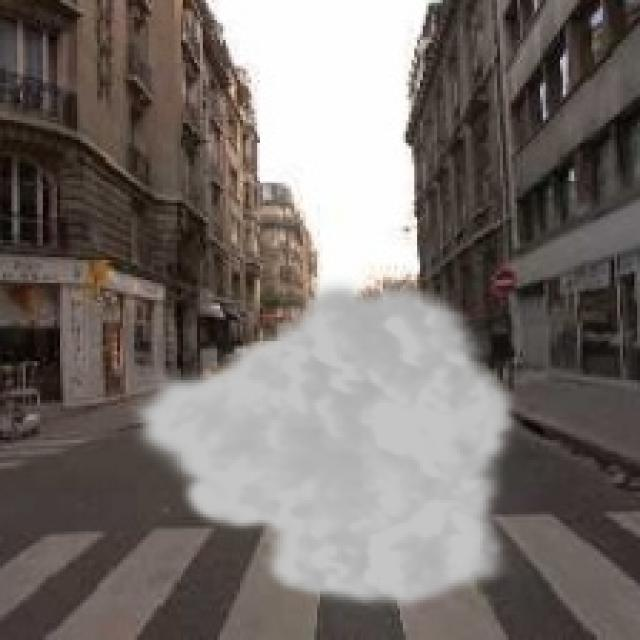smoke: (126, 272, 520, 614)
